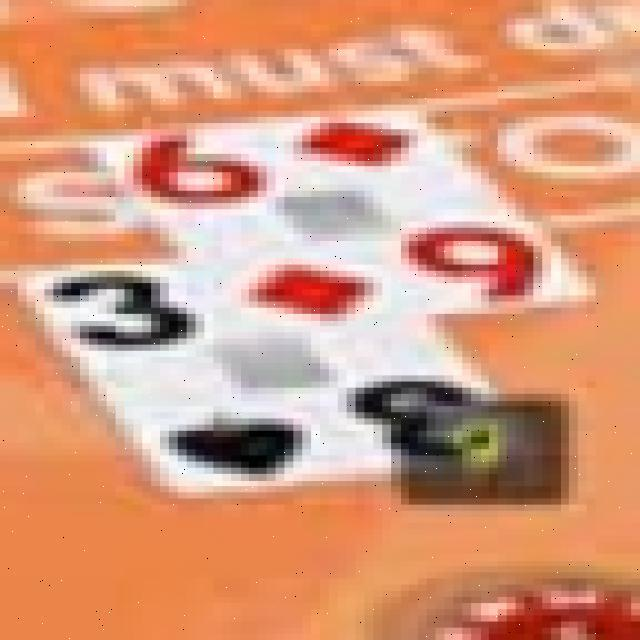Card-3: (20, 262, 542, 502)
Card-6: (94, 104, 598, 338)
